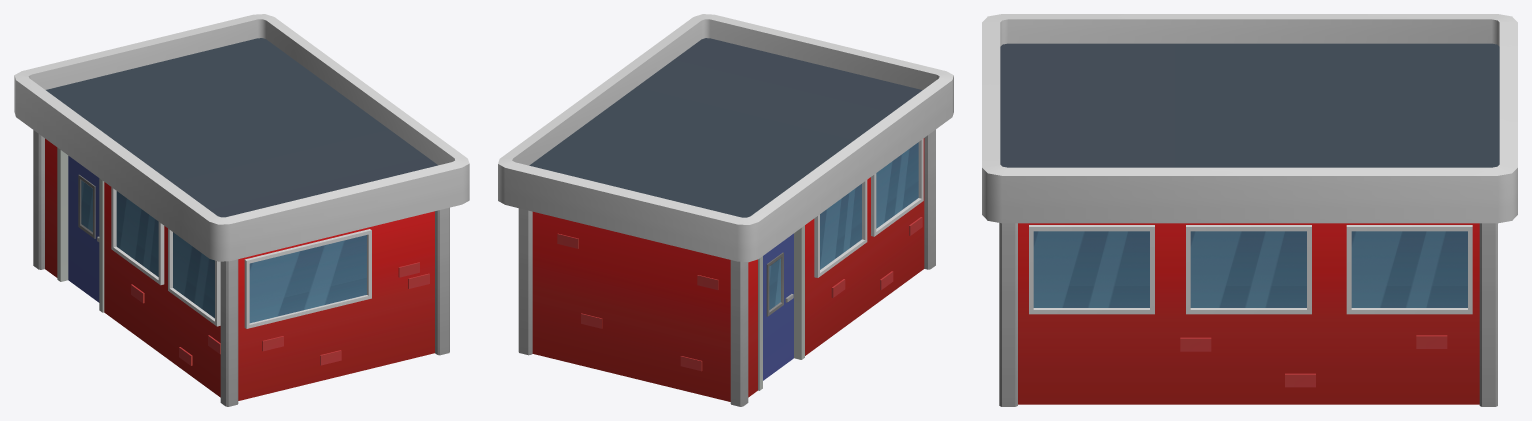
File: Building_13_C.fbx
3 views of the same model, side by side, from view 1: azimuth 30°, elevation 25°; view 2: azimuth 150°, elevation 25°; view 3: azimuth 270°, elevation 25° (orthographic). The views are drawn at different scales.
Visible parts, largest first — view 1: Building_13_C; view 2: Building_13_C; view 3: Building_13_C.
Boxes of the visible parts, box(x1,y1,x2,y2) form: Building_13_C: box(14, 14, 469, 406); Building_13_C: box(498, 14, 953, 406); Building_13_C: box(982, 14, 1517, 406).
Size of the model in its own units: 392 by 276 by 549.
